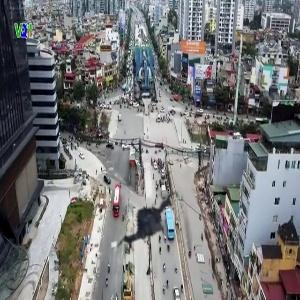drone: (105, 182, 196, 273)
